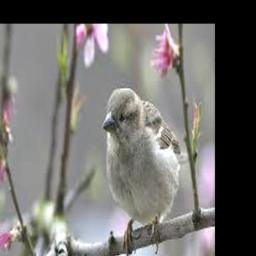Sparrow: (102, 87, 189, 256)
